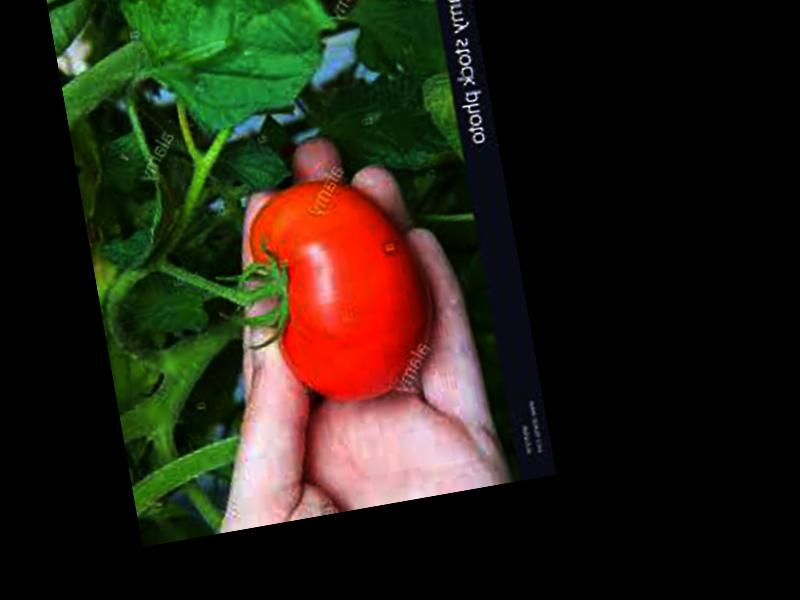Tomato: (241, 166, 440, 415)
